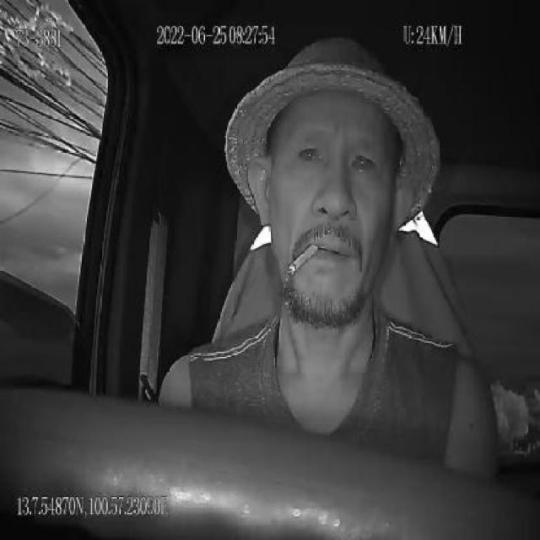smoking: (288, 240, 318, 278)
